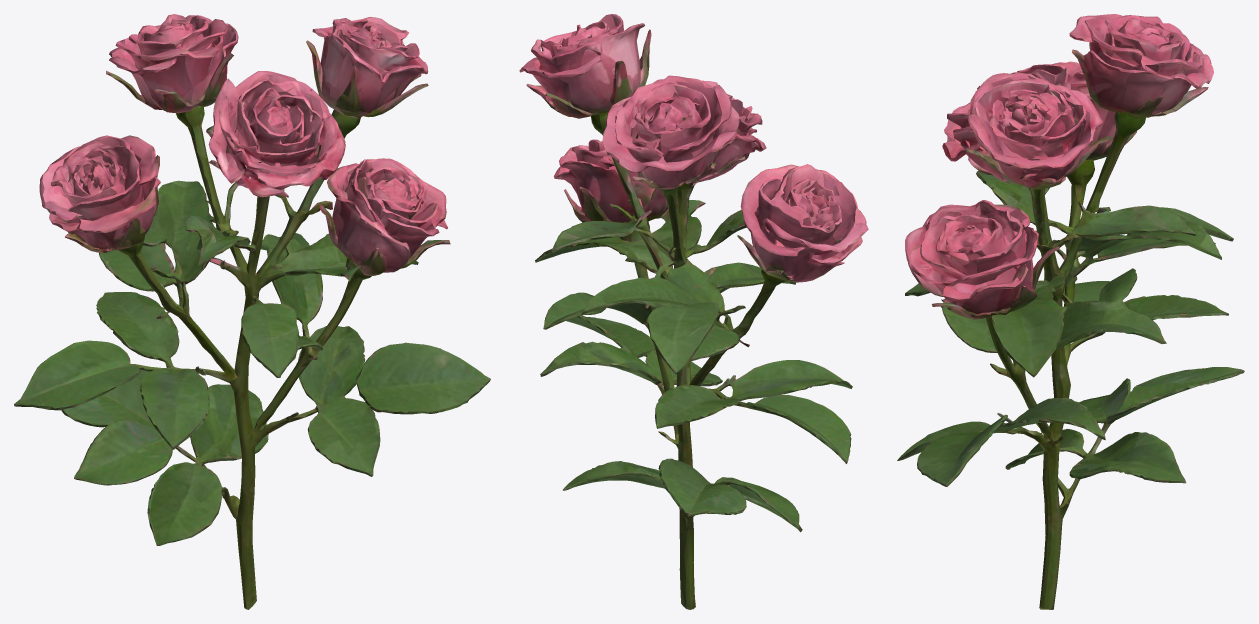
The model's file is lux-spray.glb.
3 views of the same model, side by side, from view 1: azimuth 30°, elevation 25°; view 2: azimuth 150°, elevation 25°; view 3: azimuth 270°, elevation 25° (orthographic). The views are drawn at different scales.
Visible parts, largest first — view 1: geometry_0; view 2: geometry_0; view 3: geometry_0.
Part boxes in pixels (bbox=[...]): geometry_0: bbox=[14, 14, 490, 609]; geometry_0: bbox=[519, 14, 868, 609]; geometry_0: bbox=[897, 14, 1244, 609].
Bounding box in the file's own units: 0.6 × 0.8228 × 0.4507.
Materials: 1 (1 with a texture image).
